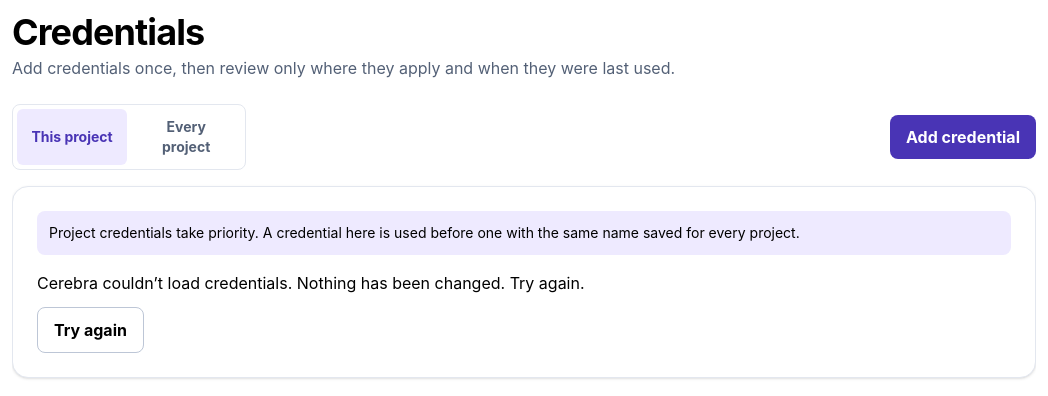
explains a failed read and tries again
Expected: the text "Cerebra couldn’t load credentials. Nothing has been changed. Try again." is shown, [37, 273, 585, 293]
Click the button "Try again": (90, 330) [37, 307, 144, 353]
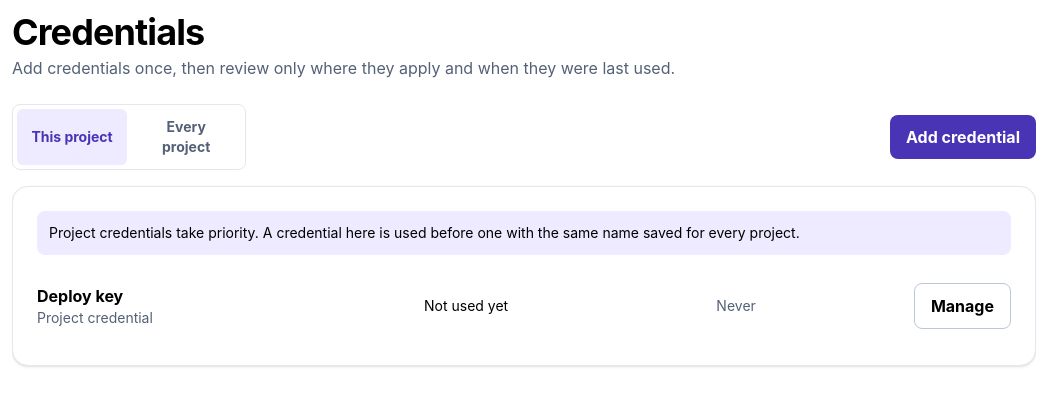
Now the list item with aria-label "Deploy key, Project credential" is shown, box [37, 271, 1011, 341]
